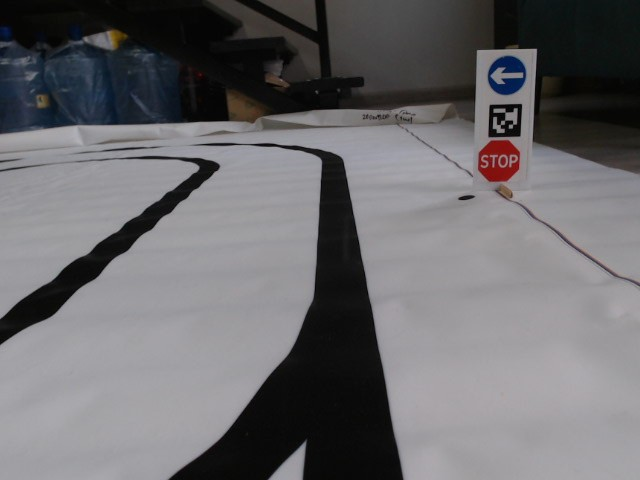Stop: (477, 138, 520, 181)
